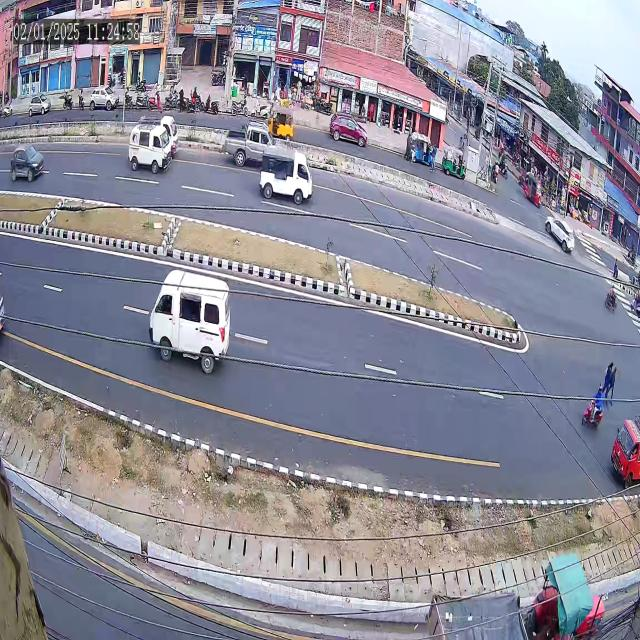auto: (262, 100, 298, 142)
car: (7, 126, 48, 200), (544, 205, 579, 263)
motorcycle: (604, 280, 620, 320)
van: (136, 268, 252, 385), (259, 144, 318, 214), (123, 118, 173, 183)
